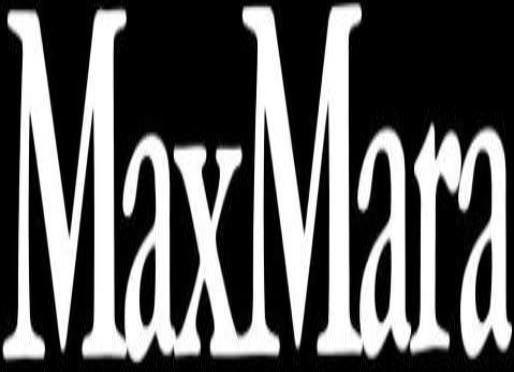MAX-MARA: (3, 2, 514, 364)
